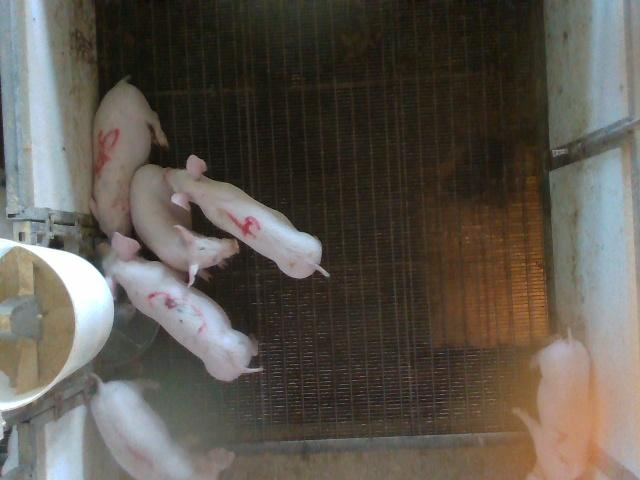pig-1: (90, 376, 191, 479)
pig-2: (515, 338, 591, 479)
pig-3: (98, 232, 260, 381)
pig-4: (164, 155, 329, 278)
pig-5: (90, 79, 168, 237)
